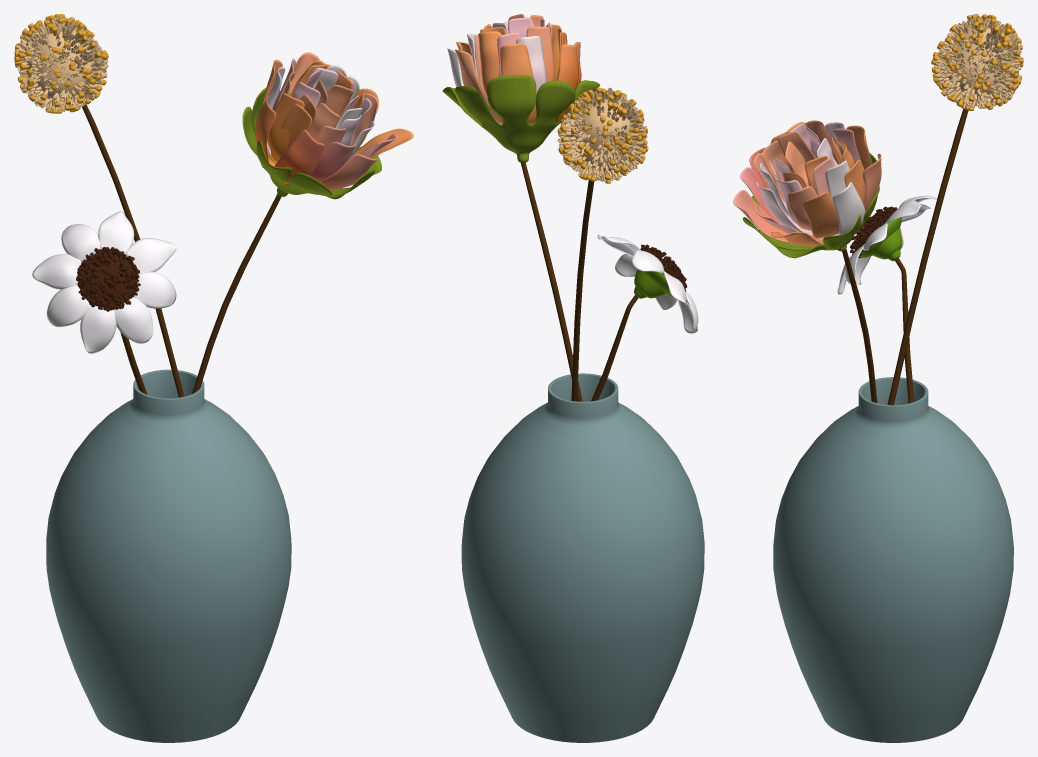
The model's file is Flower-transformed.glb.
3 views of the same model, side by side, from view 1: azimuth 30°, elevation 25°; view 2: azimuth 150°, elevation 25°; view 3: azimuth 270°, elevation 25° (orthographic). The views are drawn at different scales.
Parts seen in each view (by area): view 1: Circle.001, Plane.007, Cube.005; view 2: Circle.001, Plane.007, Cube.005; view 3: Circle.001, Plane.007, Cube.005.
Part boxes in pixels (bbox=[...]): Circle.001: bbox=[46, 369, 291, 742]; Plane.007: bbox=[14, 14, 413, 353]; Cube.005: bbox=[82, 105, 281, 397]; Circle.001: bbox=[461, 373, 704, 742]; Plane.007: bbox=[442, 14, 698, 333]; Cube.005: bbox=[521, 162, 638, 401]; Circle.001: bbox=[773, 377, 1013, 742]; Plane.007: bbox=[733, 14, 1023, 294]; Cube.005: bbox=[842, 109, 968, 405].
Bounding box in the file's own units: 0.1226 × 0.259 × 0.1028.
Materials: 4 (3 with a texture image).
